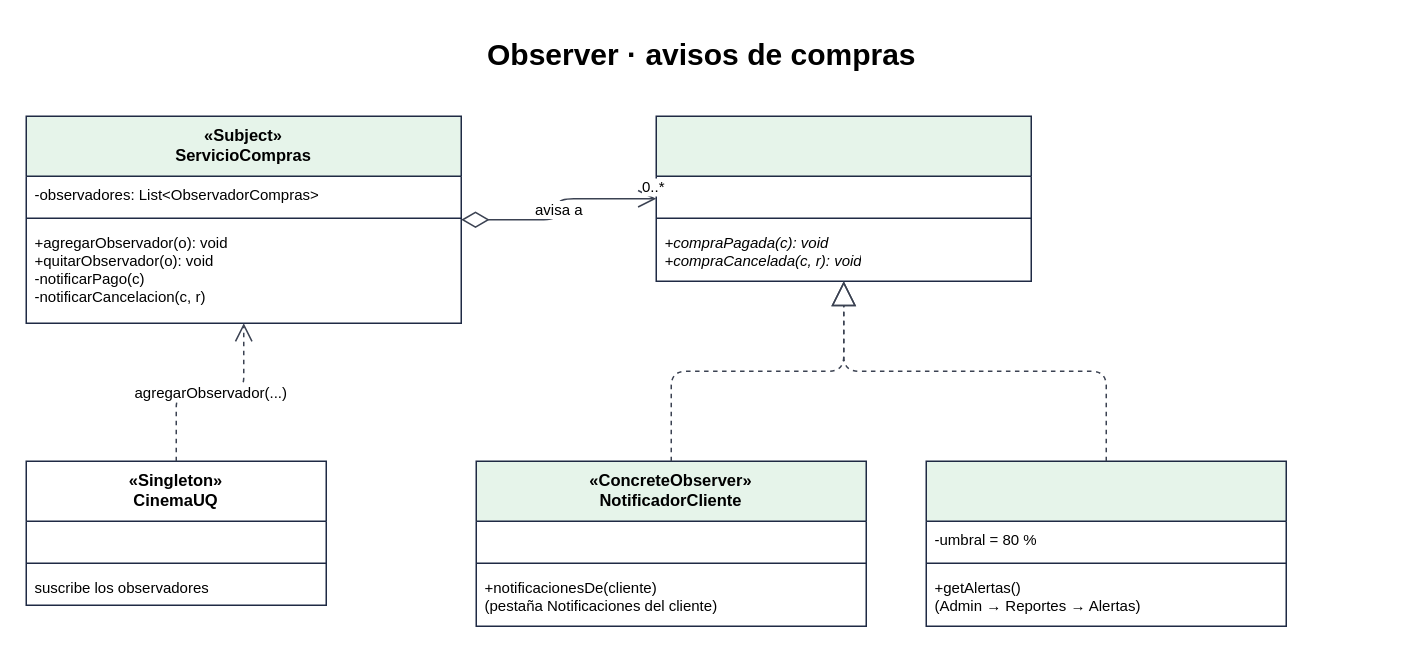
The diagram is 1403 pixels wide and 656 high, and some of its shapes have lost their labels. Here are the shapes that lost their labels. From the top down, the box of each, then its label:
(655, 115, 1031, 281): «interface · Observer» ObservadorCompras
(925, 460, 1286, 626): «ConcreteObserver» MonitorOcupacion
